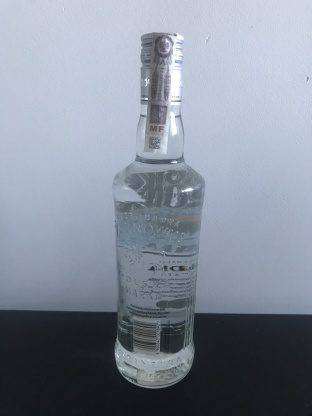nakretka: (137, 27, 185, 110)
